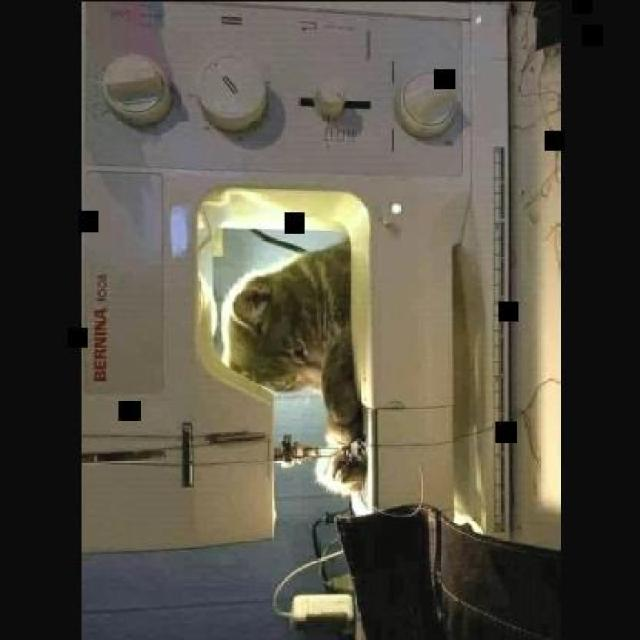unauthorized: (214, 236, 368, 498)
